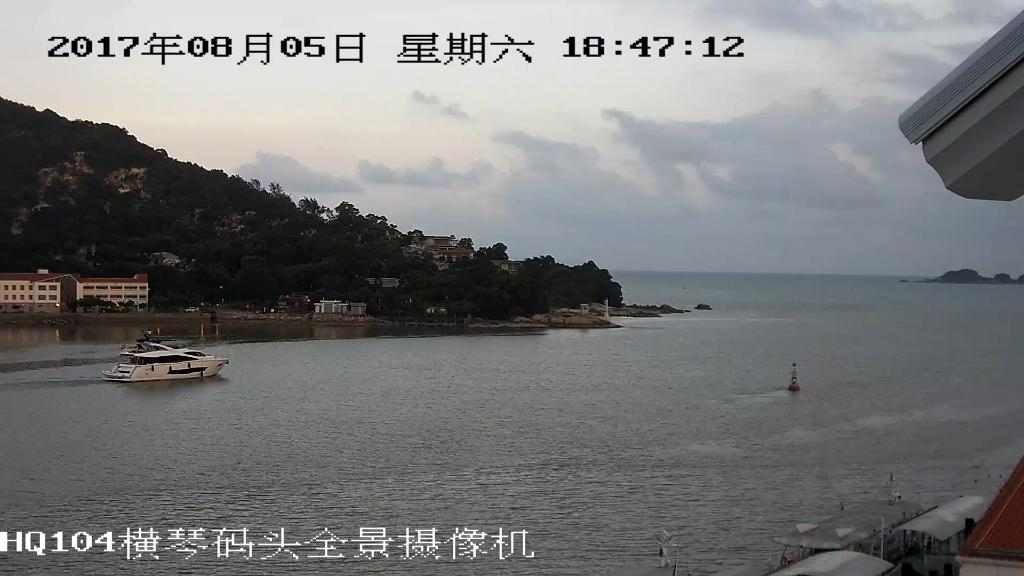PassengerShip: (96, 323, 230, 389)
